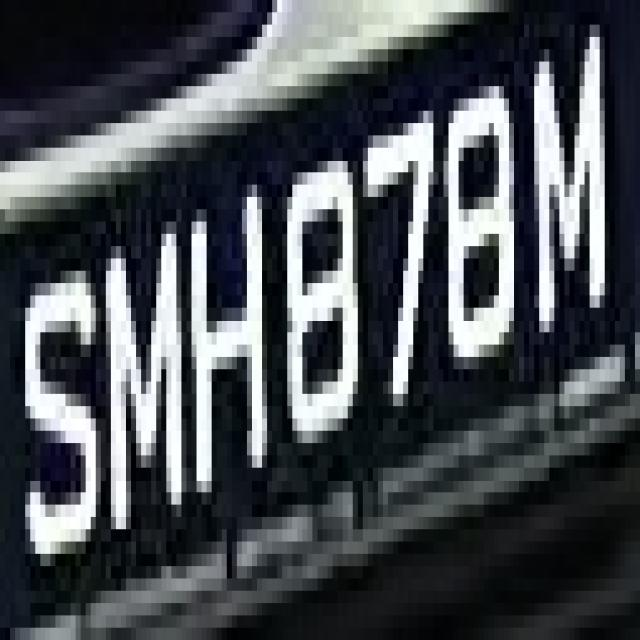7: (343, 74, 438, 431)
8: (277, 123, 368, 455), (433, 86, 524, 382)
H: (182, 136, 267, 530)
M: (96, 197, 186, 566), (519, 37, 615, 357)
S: (20, 234, 101, 566)
